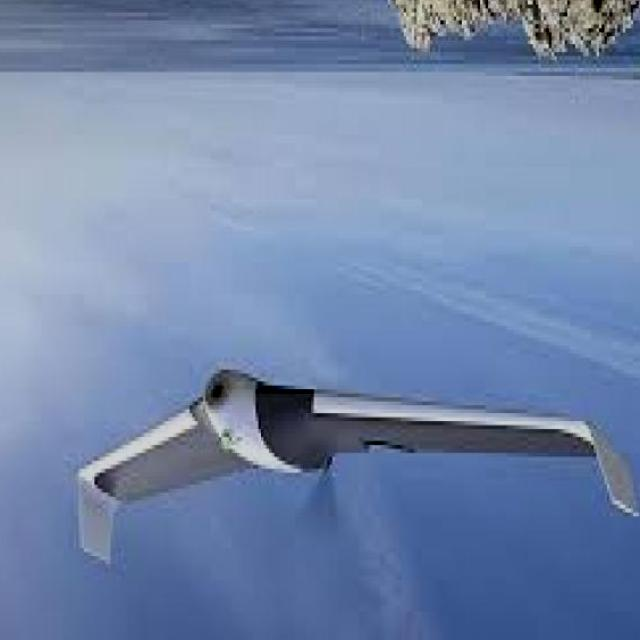plane: (73, 367, 640, 576)
